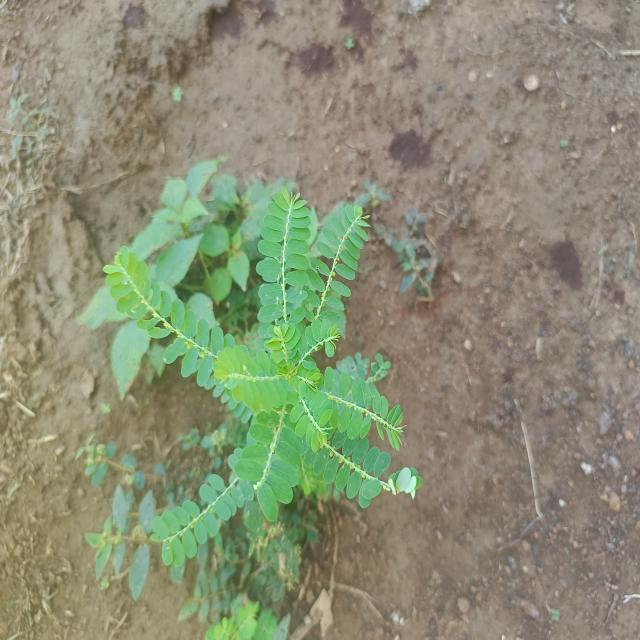weed: (80, 153, 425, 640), (79, 442, 167, 605), (379, 202, 451, 301), (346, 174, 391, 226)
